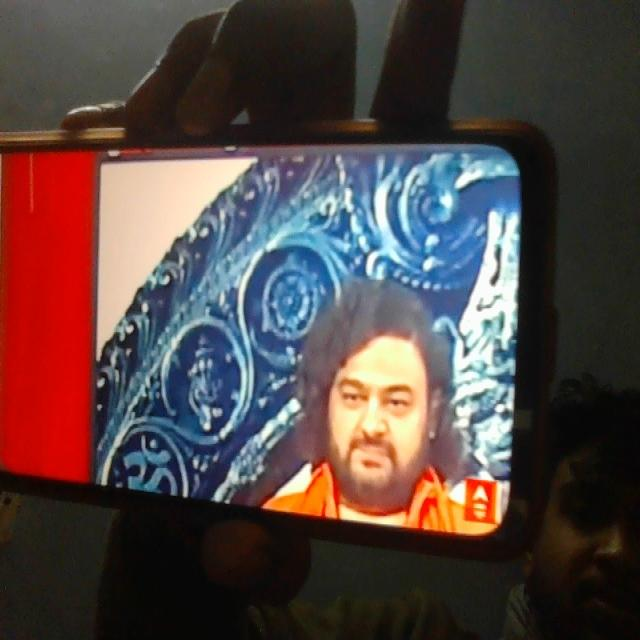fake: (314, 266, 441, 506)
